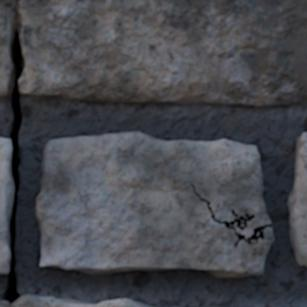brick: (34, 132, 273, 277), (288, 133, 306, 265), (0, 138, 12, 273)
broken_brick: (0, 0, 306, 106), (0, 293, 162, 306), (200, 305, 225, 306)
crack: (0, 2, 26, 304), (190, 182, 272, 248)
